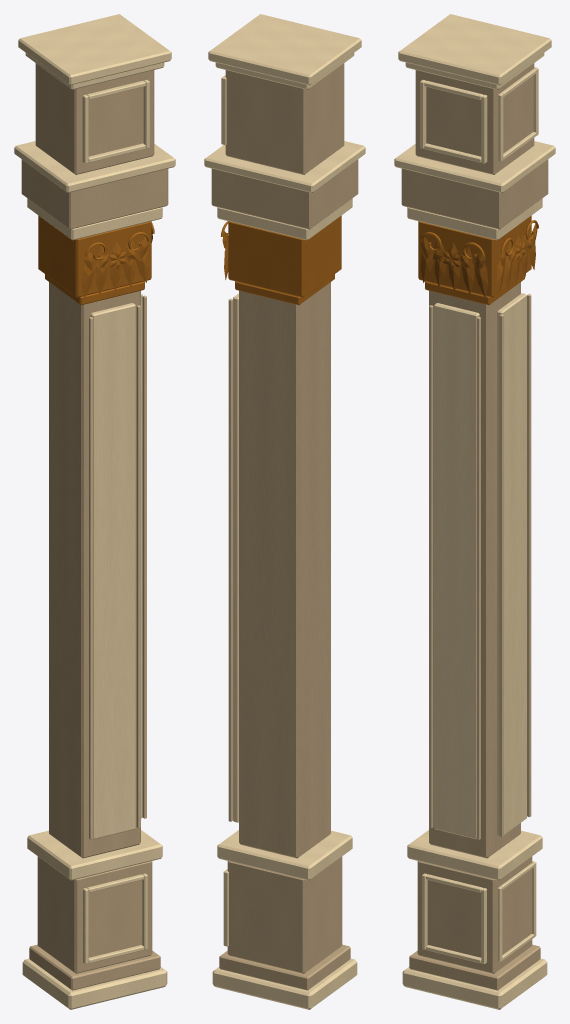
File: PMU_Pilier_Angle_90.glb
The picture shows the model from 3 angles, left to right: view 1: azimuth 30°, elevation 25°; view 2: azimuth 150°, elevation 25°; view 3: azimuth 330°, elevation 25°; orthographic projection.
Parts seen in each view (by area): view 1: PMU_Pilier_Angle_90; view 2: PMU_Pilier_Angle_90; view 3: PMU_Pilier_Angle_90.
Boxes of the visible parts, x1,y1,x2,y2 form: PMU_Pilier_Angle_90: (14,14,175,1009); PMU_Pilier_Angle_90: (204,14,365,1009); PMU_Pilier_Angle_90: (394,14,555,1009).
Size of the model in its own units: 3.48 by 28.53 by 2.97.
1 material, 1 textured.
